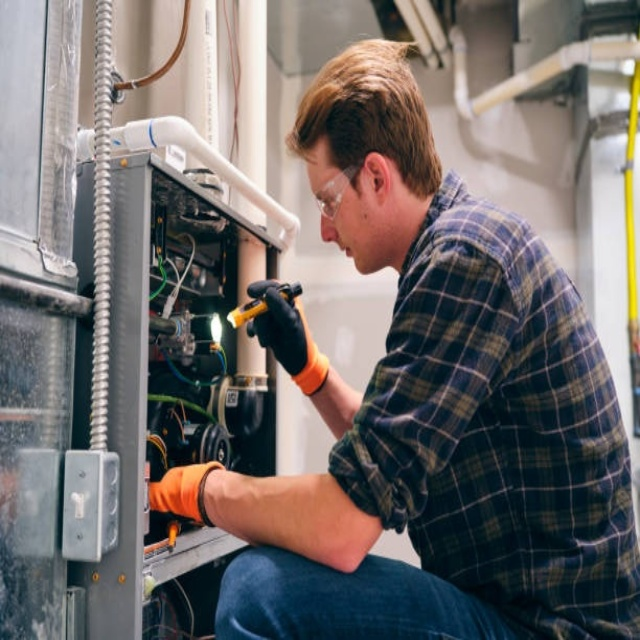Gafas: (312, 163, 364, 219)
Guantes: (244, 278, 327, 391), (148, 461, 224, 527)
Sin_mascara: (332, 238, 370, 277)
